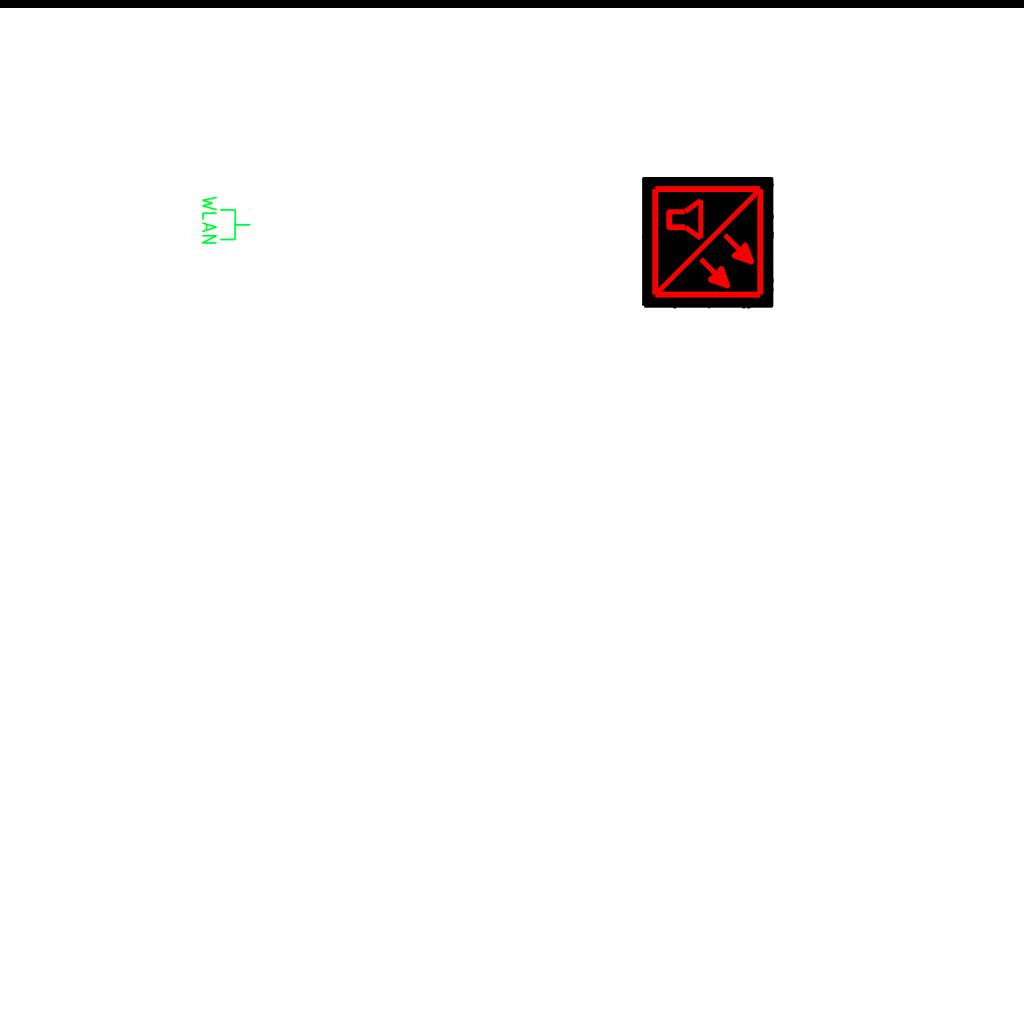OKW_Multisensormelder_(Kombination_optischer_Rauch-Kahlenmonoxid_Waerme-Melder): (642, 177, 774, 309)
WLAN: (200, 194, 252, 246)
